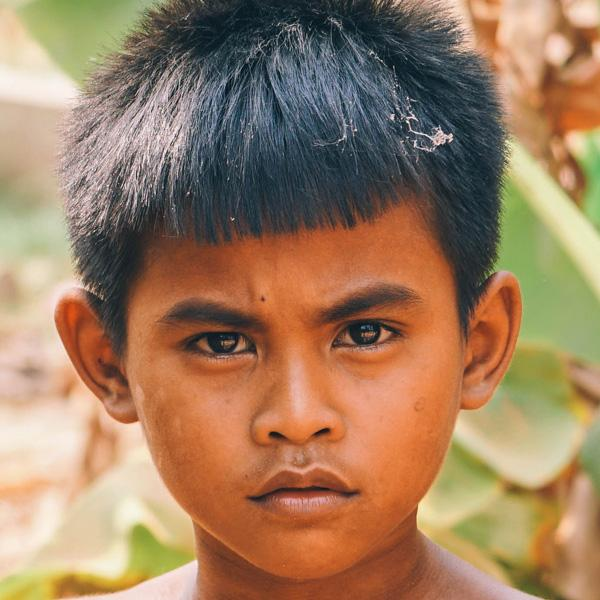Eyes: (166, 318, 265, 377), (321, 311, 419, 362)
